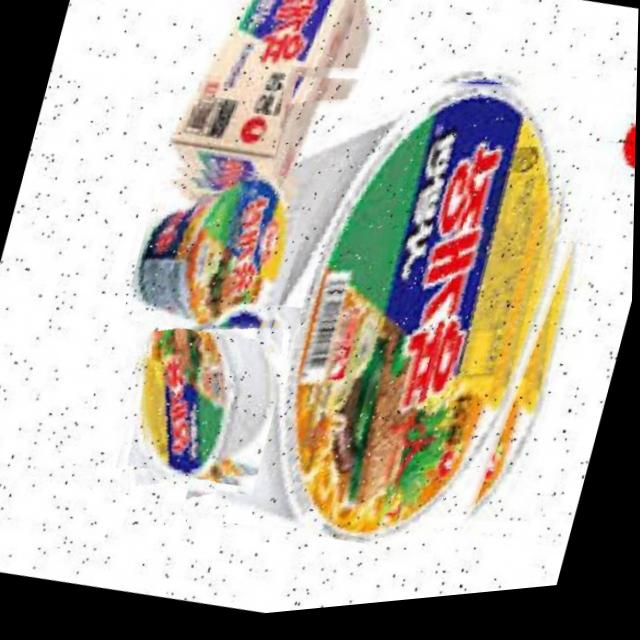Miscellaneous: (181, 20, 634, 600), (105, 277, 302, 512), (121, 147, 322, 360)
